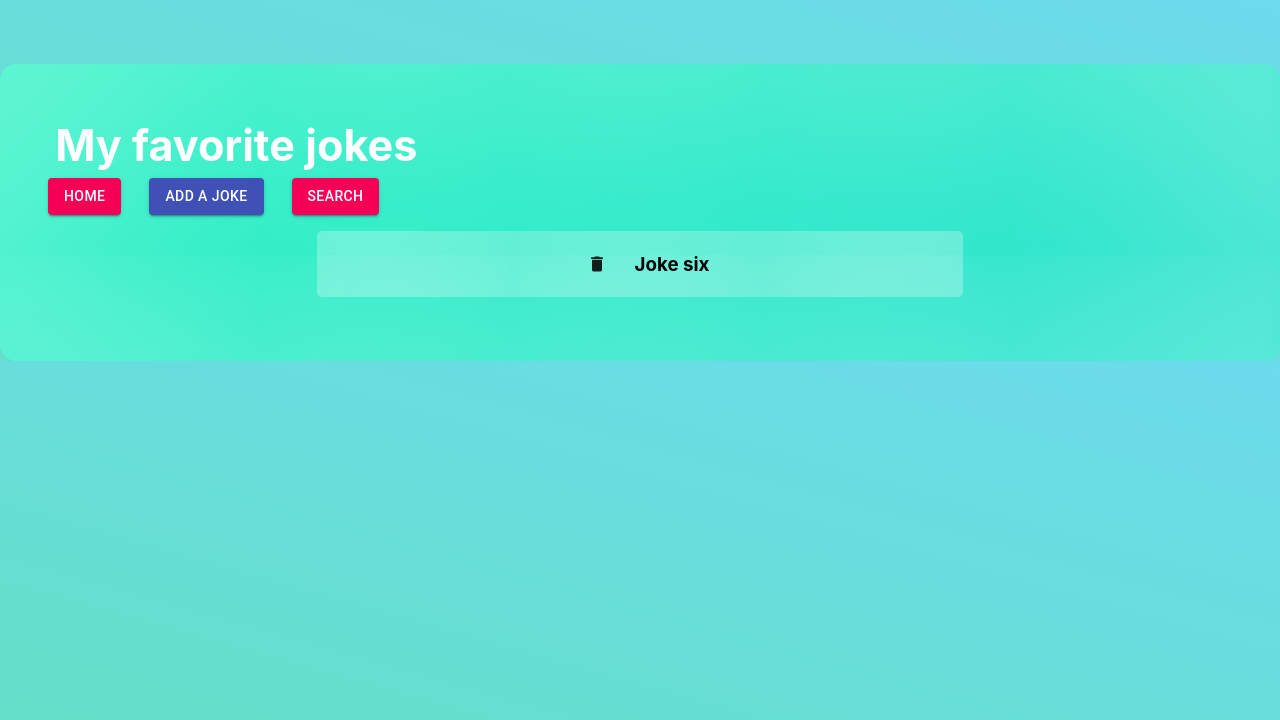
Test: Saved › should show a add joke modal
Click the button "Add a joke" at (206, 197), box x1=149 y1=178 x2=264 y2=215
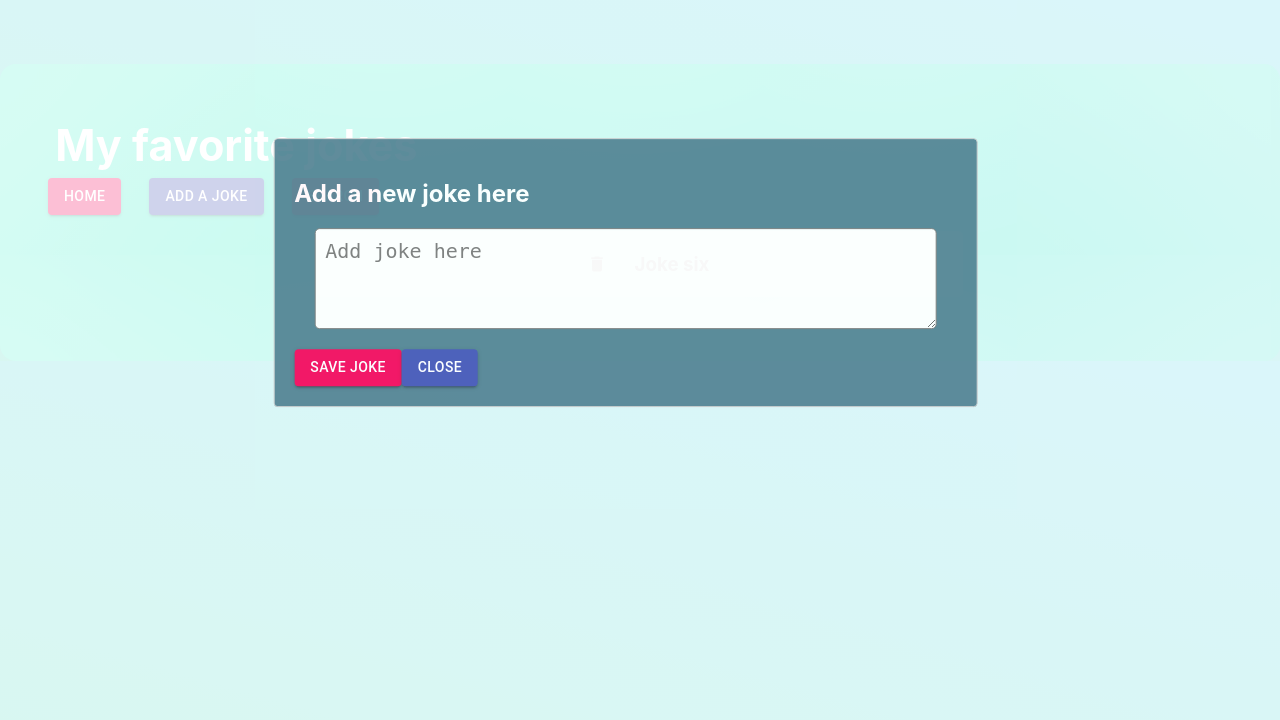
expect the heading "Add a new joke here" is shown: met, box x1=294 y1=179 x2=530 y2=208
